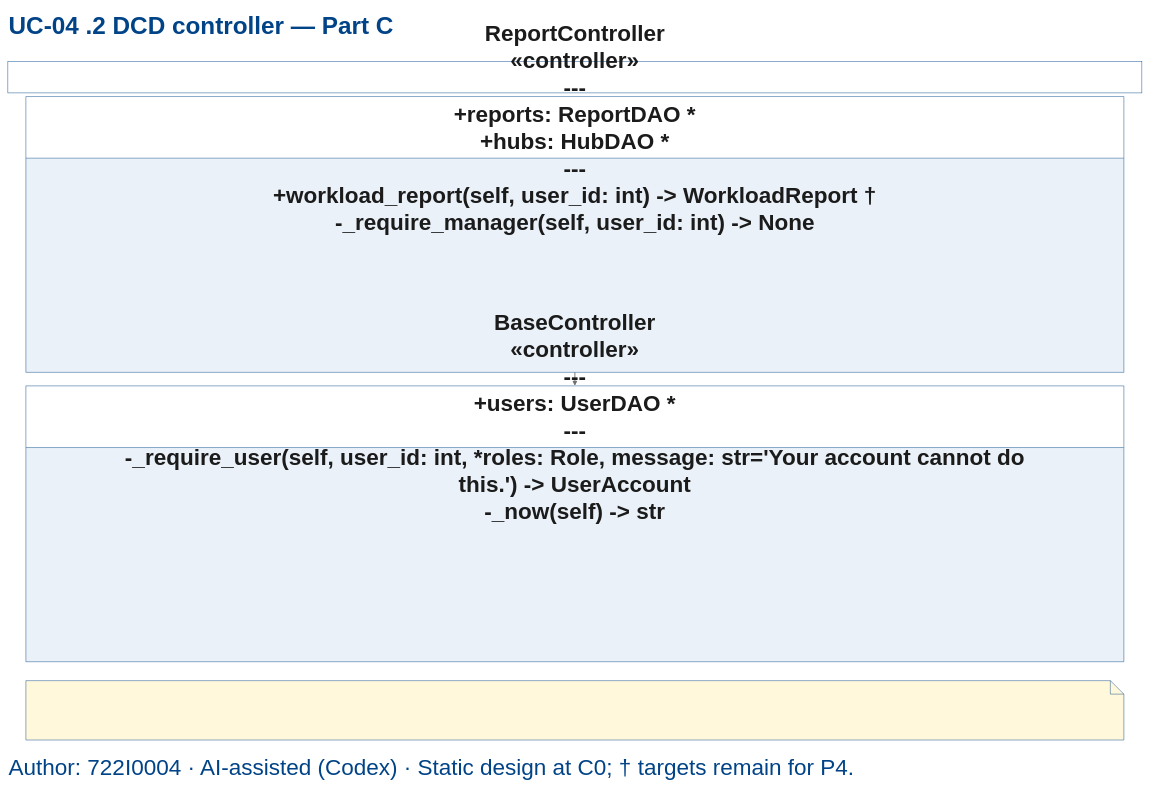
Image size: 1150x789. Some labels were removed from this diagram. Here are the shapes that lost their labels. From the top down, the centre of each, then its label:
point (574, 77): Business / controller
point (574, 710): Workload value roles continue in Part D.
